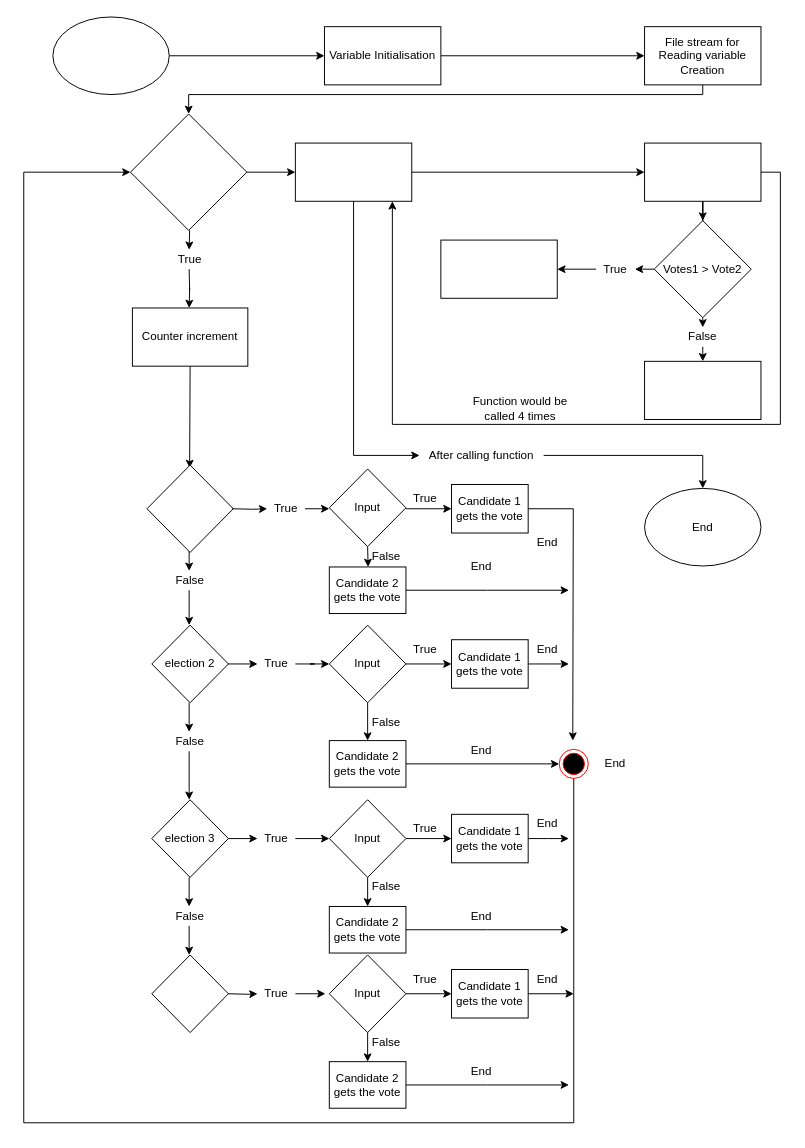
This 805x1148 diagram has some shape labels left out. Here are the shapes that lost their labels. From the top down, the box of each, then its label:
(52, 16, 169, 95): Start
(129, 113, 247, 230): Verifying for end of file
(294, 142, 412, 201): Printing the output
(644, 142, 761, 201): Function Calling(votes1, votes2)
(440, 239, 557, 298): Print 1st member as winner
(644, 360, 761, 420): Print 2nd member as winner
(146, 464, 233, 552): election 1
(151, 954, 228, 1033): election 4
